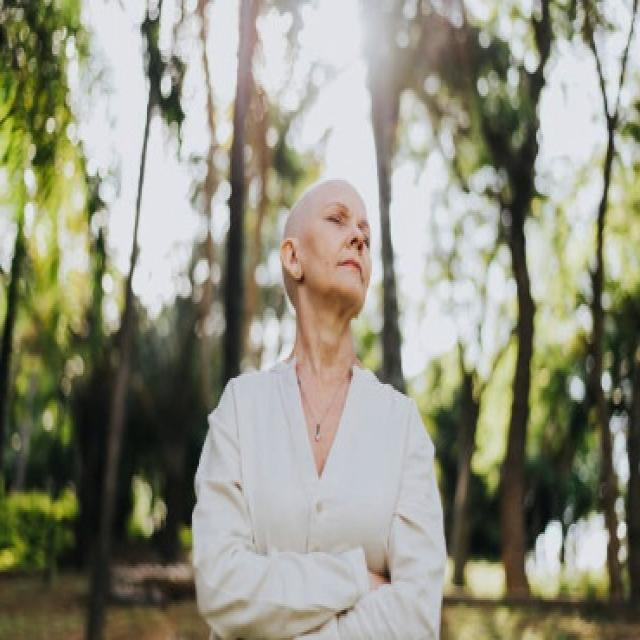adult: (199, 174, 443, 640)
